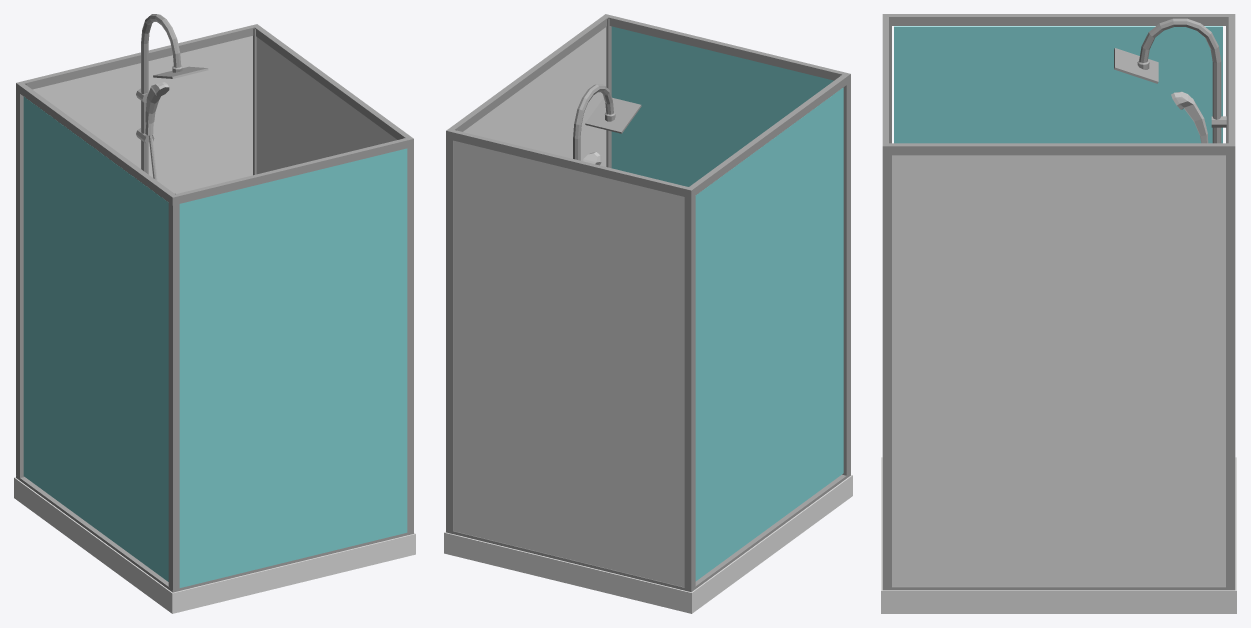
The model's file is shower_booth_0415.fbx.
3 renders of one model, left to right at view 1: azimuth 30°, elevation 25°; view 2: azimuth 150°, elevation 25°; view 3: azimuth 270°, elevation 25°, orthographic. The views are drawn at different scales.
Visible parts, largest first — view 1: Box012; view 2: Box012; view 3: Box012.
Part boxes in pixels (<box>): Box012: <box>14,14,415,613</box>; Box012: <box>444,14,852,613</box>; Box012: <box>881,14,1236,613</box>.
Size of the model in its own units: 204 by 376 by 230.
2 materials, 1 textured.
